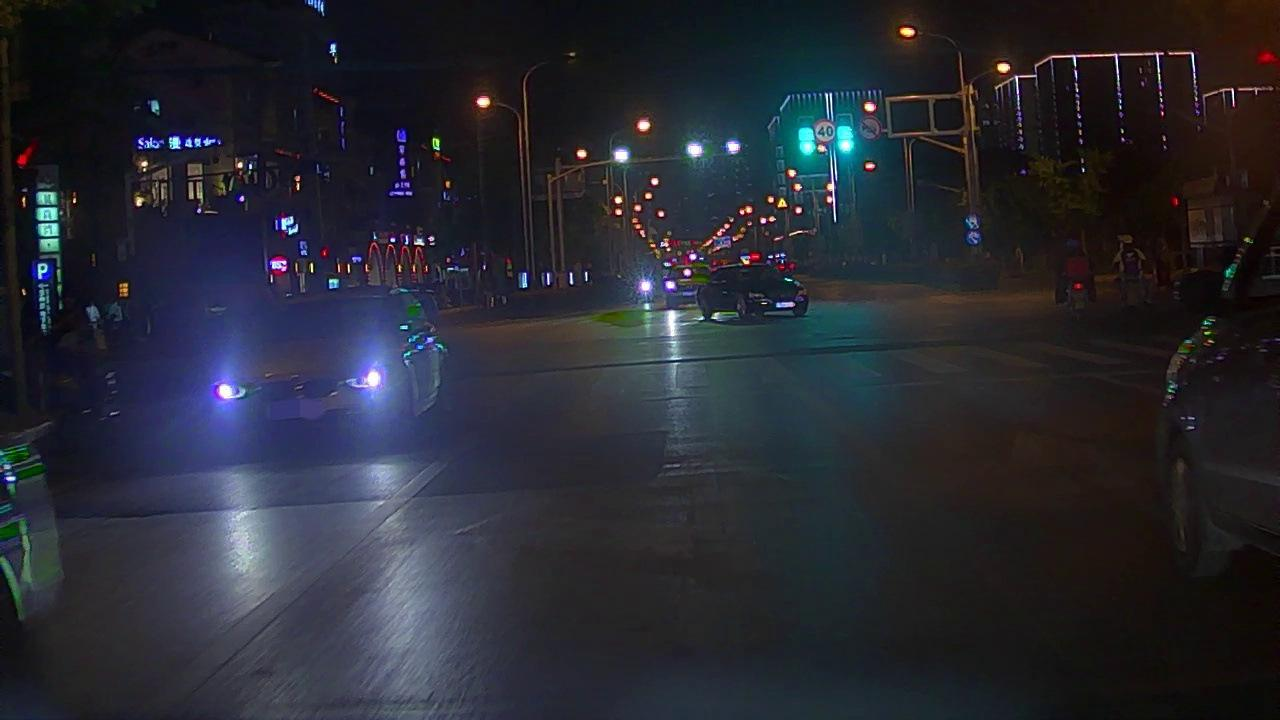traffic_light: (836, 116, 855, 155), (798, 118, 816, 156)
